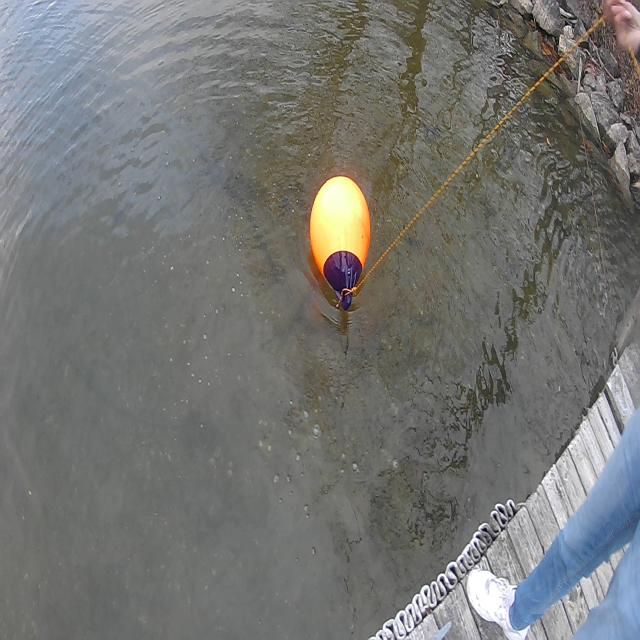Buoy: (305, 166, 374, 310)
